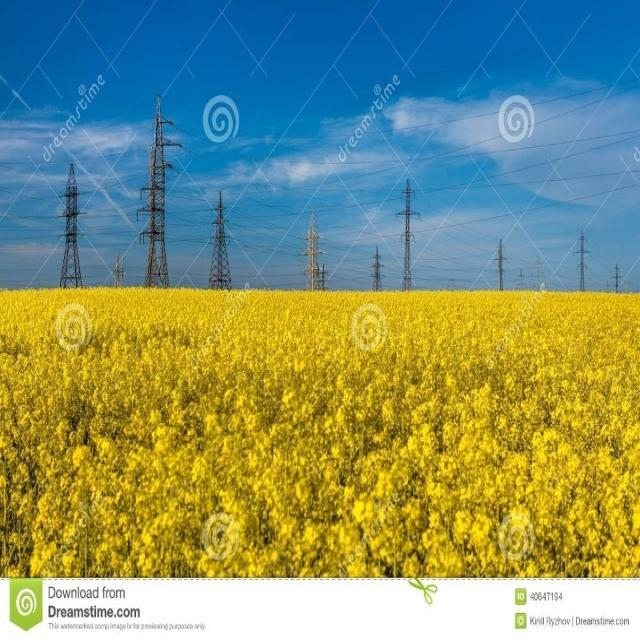non-critical vegetation: (138, 97, 190, 285), (52, 163, 85, 280), (204, 185, 234, 288), (395, 172, 417, 296), (300, 212, 323, 290)
